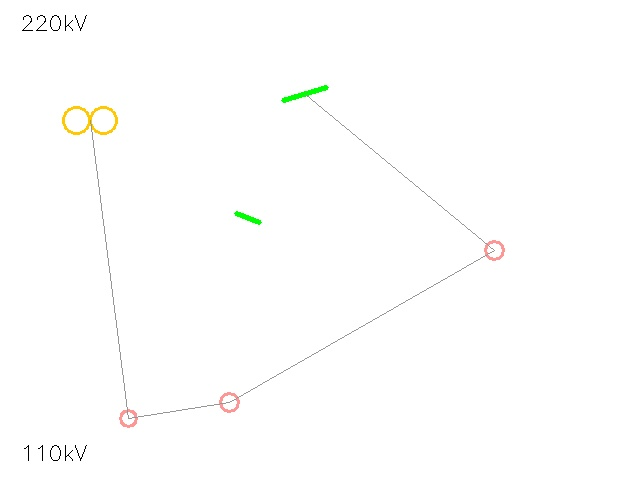busbar: (277, 66, 333, 122), (232, 202, 264, 234)
current_transformer: (111, 401, 145, 435)
load_break_switch: (210, 383, 248, 421)
surge_arrester: (476, 232, 512, 268)
transformer_2w: (56, 86, 124, 154)
